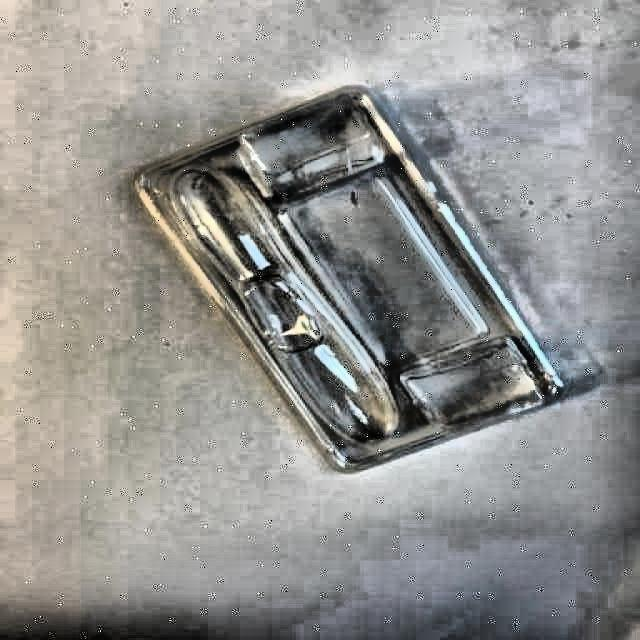plastic: (138, 89, 563, 470)
